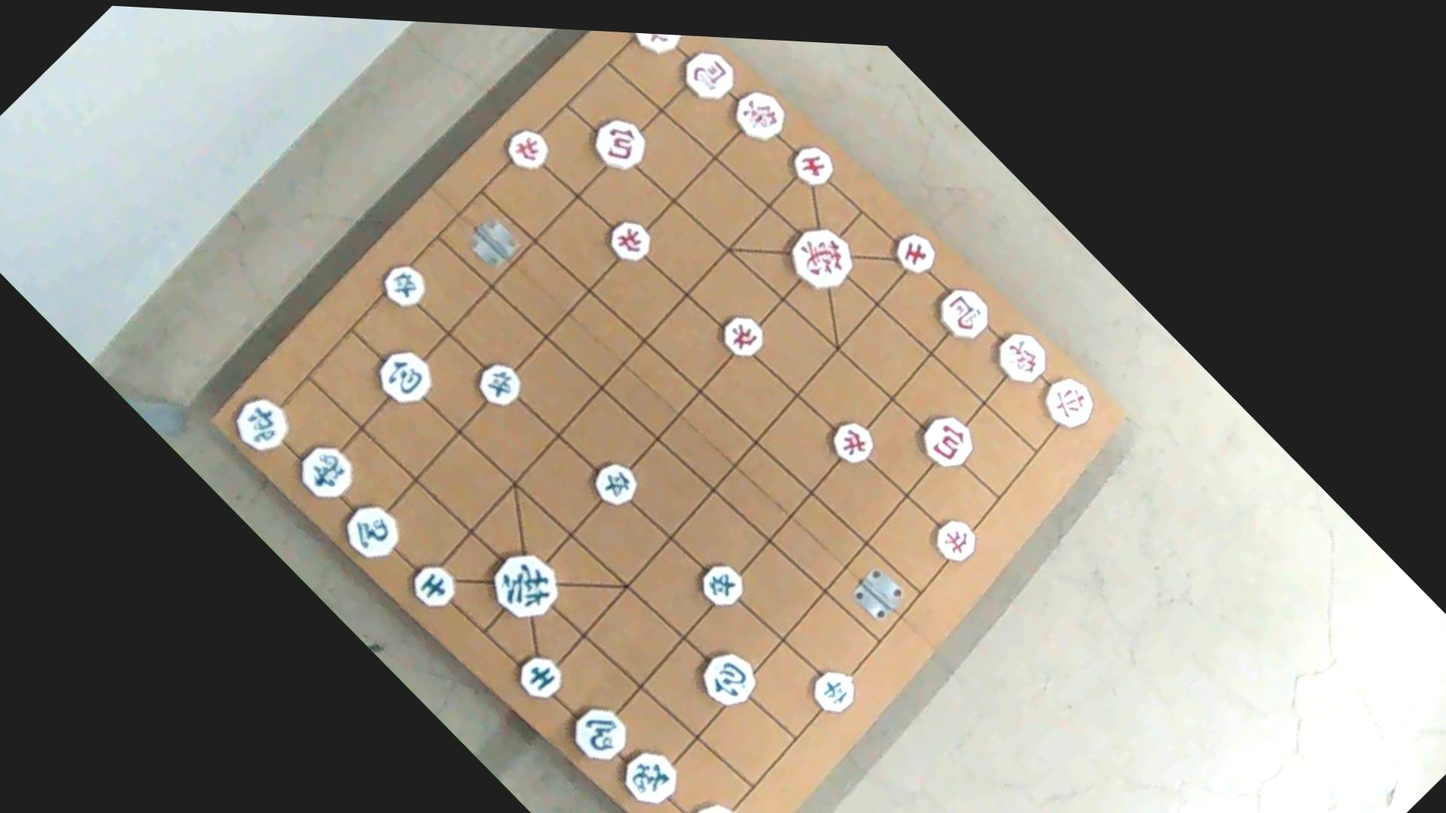cha_green: (224, 385, 297, 461), (681, 793, 753, 813)
cha_red: (1036, 367, 1103, 437), (621, 32, 690, 66)
jol_green: (585, 452, 643, 513), (692, 555, 750, 615), (806, 662, 864, 722), (376, 255, 433, 315), (472, 353, 529, 413)
jol_red: (602, 209, 659, 269), (822, 412, 878, 470), (926, 510, 981, 569), (715, 306, 770, 364), (499, 120, 554, 178)
ma_green: (334, 493, 408, 571), (563, 696, 636, 773)
ma_red: (927, 277, 996, 350), (676, 42, 742, 111)
po_green: (692, 639, 767, 718), (368, 340, 438, 413)
po_red: (582, 108, 650, 179), (915, 407, 982, 477)
sa_green: (508, 647, 566, 708), (404, 556, 462, 616)
sa_red: (886, 224, 940, 281), (783, 136, 837, 192)
sang_green: (288, 434, 362, 510), (613, 738, 684, 813)
sang_red: (986, 324, 1055, 397), (726, 81, 794, 153)
wang_green: (480, 540, 566, 630)
wang_red: (780, 215, 859, 298)
